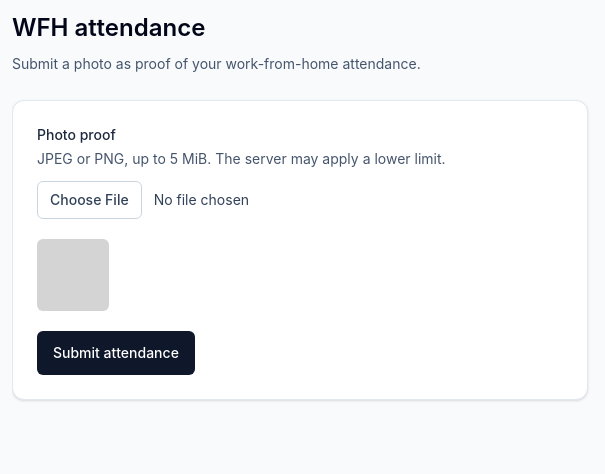
EmployeeAttendancePage › previews and submits a valid photo
The image size is (605, 474).
Earlier steps of the test are not shown.
Click the button "Submit attendance".
click(116, 353)  # box [37,331,195,375]
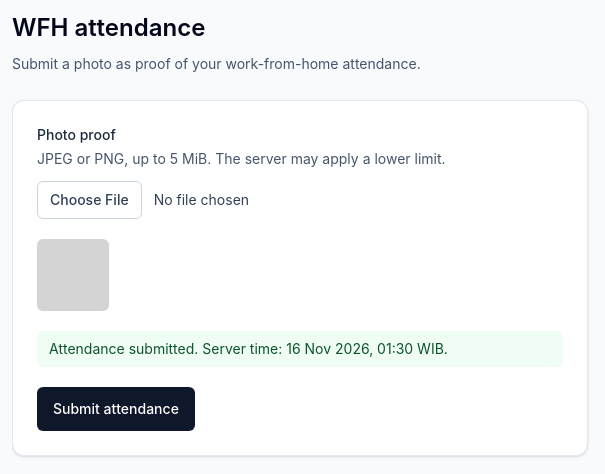
Check: the text "Attendance submitted. Server time: 16 Nov 2026, 01:30 WIB." is shown, box [37,331,563,367]
